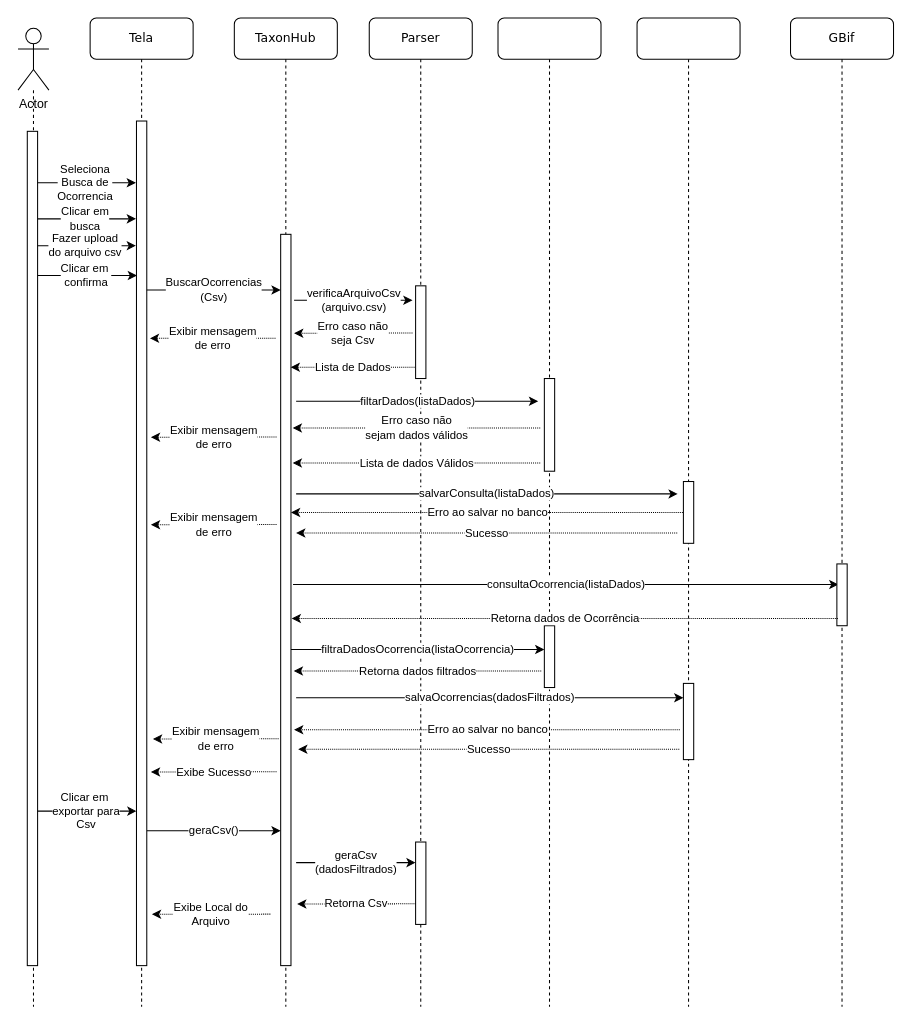
Some shapes in this 912 by 1026 pixel diagram are drawn without their labels. Here are the shapes that lost their labels. From the top down, the centre of each, then its label:
At point 549,512: "Filtro".
At point 688,512: "Banco de Dados".
